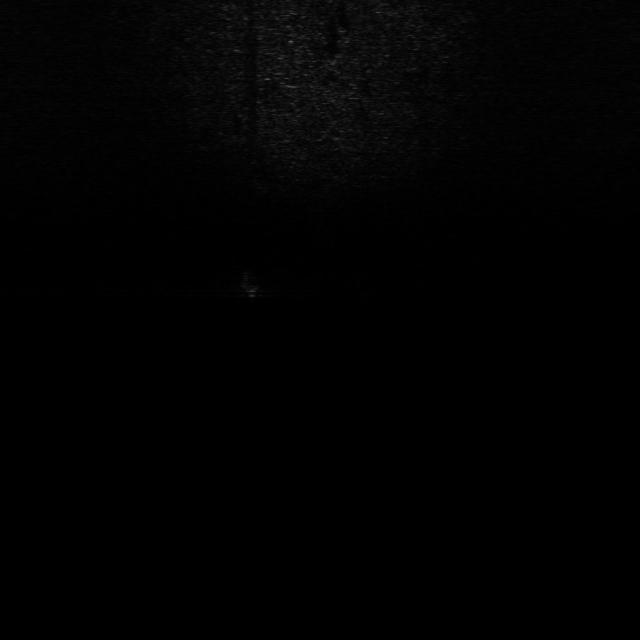human body: (234, 268, 264, 307)
